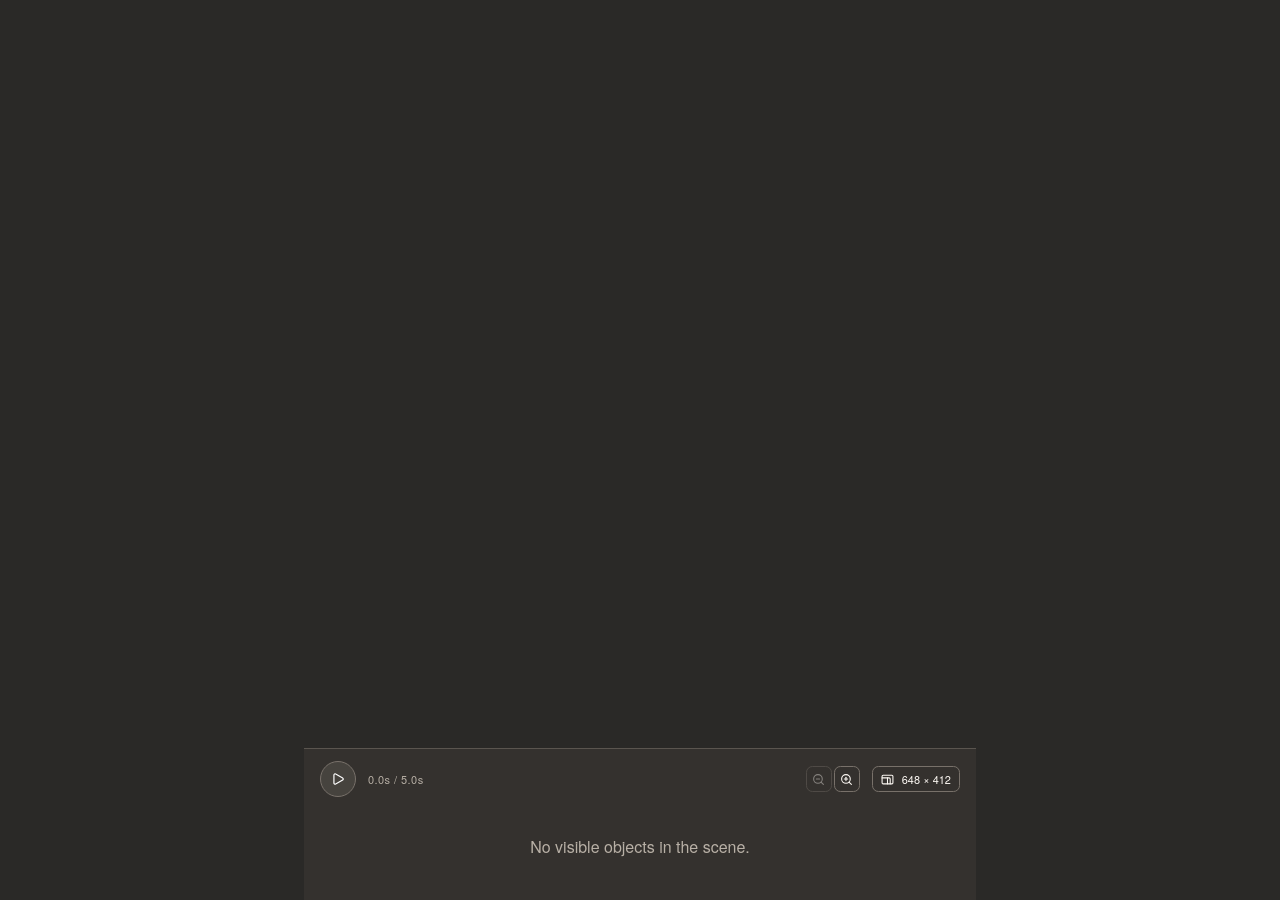
Test case: MotionTimeline › video size › describes a custom size by its ratio
Step 1. Click the button named "Video size: 648 × 412" → (916, 779), box [872, 766, 960, 792]
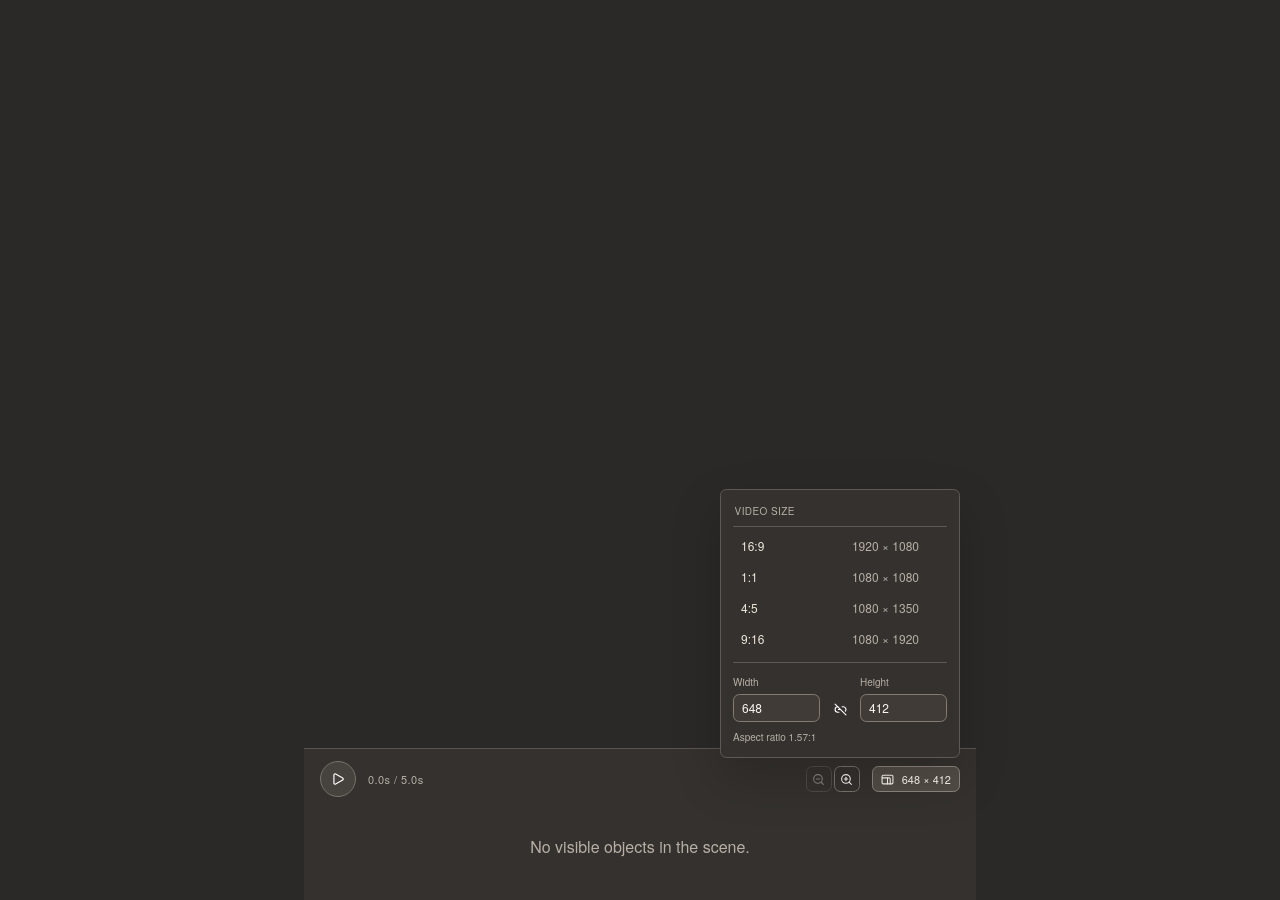
Expected: the text "Aspect ratio 1.57:1" is shown, [733, 730, 816, 744]
